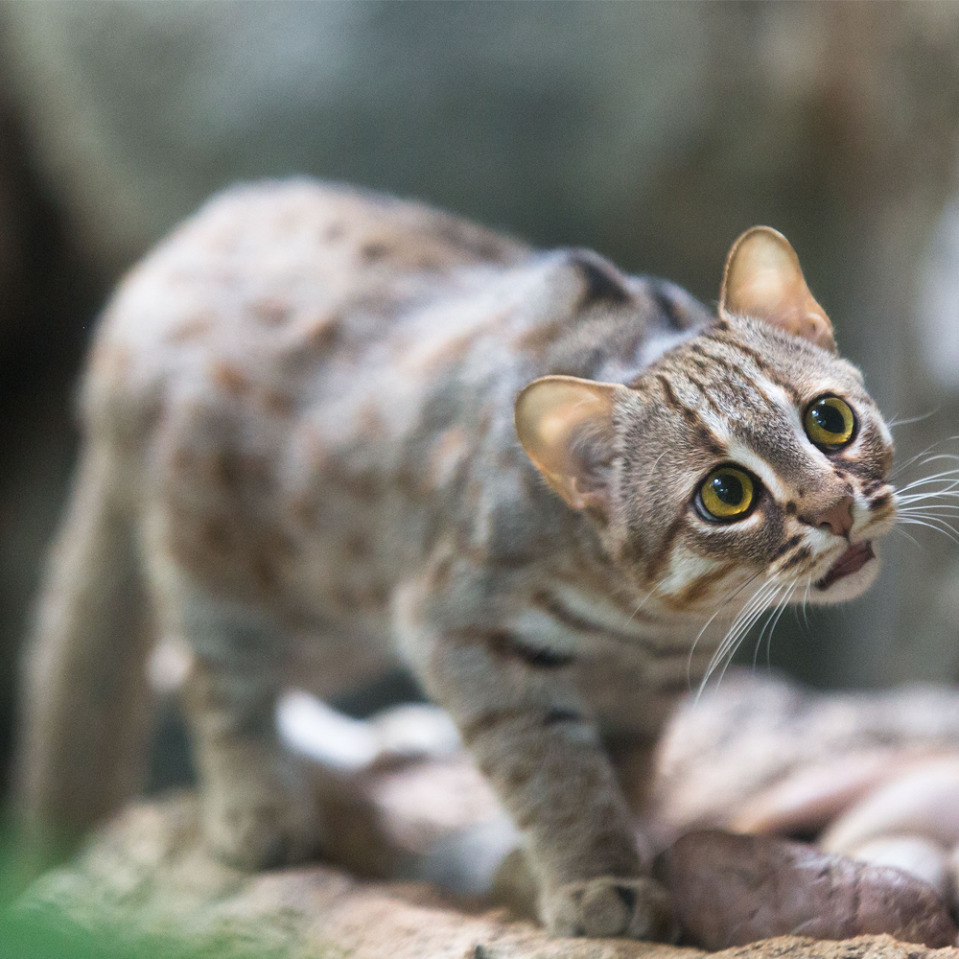cat: (36, 162, 918, 943)
